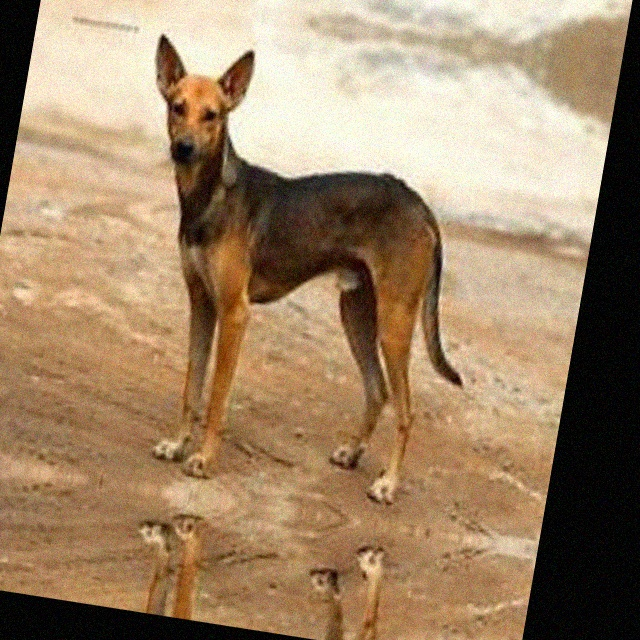dog: (34, 4, 538, 538), (14, 472, 458, 640), (120, 0, 561, 44)
